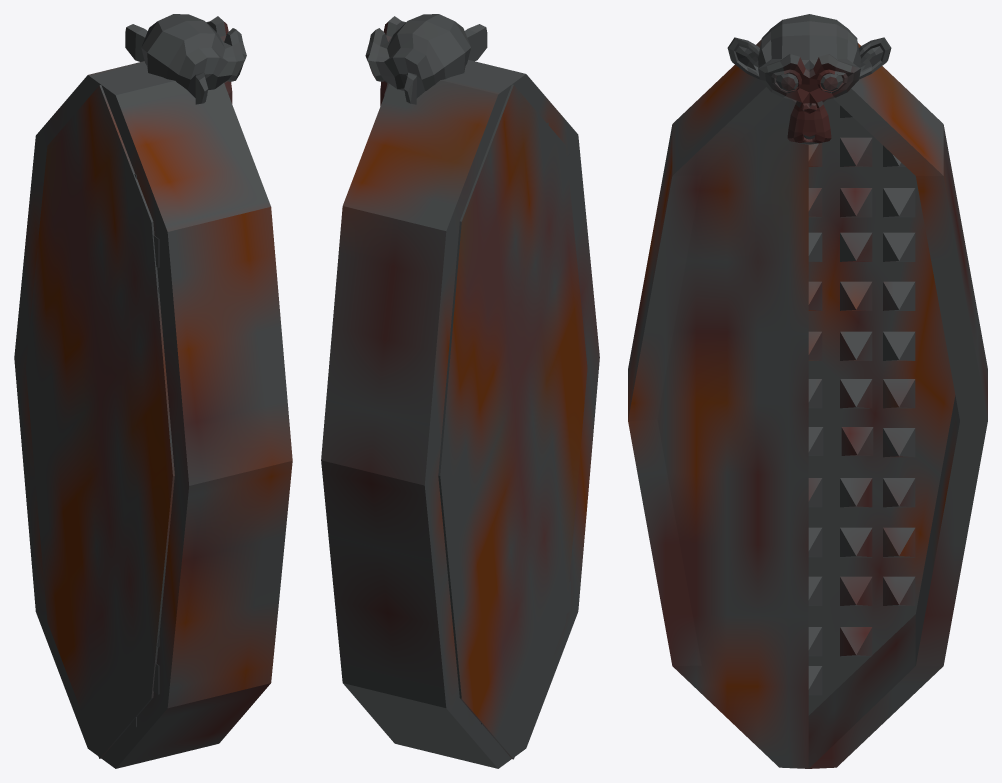
The model's file is SM_cenario_ironape.glb.
3 renders of one model, left to right at view 1: azimuth 30°, elevation 25°; view 2: azimuth 150°, elevation 25°; view 3: azimuth 270°, elevation 25°, orthographic. The views are drawn at different scales.
Visible parts, largest first — view 1: Cilindro.015; view 2: Cilindro.015; view 3: Cilindro.015.
Boxes of the visible parts, left/top/right/bottom form: Cilindro.015: left=14, top=14, right=292, bottom=768; Cilindro.015: left=321, top=14, right=599, bottom=768; Cilindro.015: left=628, top=14, right=987, bottom=768.
Size of the model in its own units: 1.33 by 6.79 by 3.
Materials: 1 (1 with a texture image).
